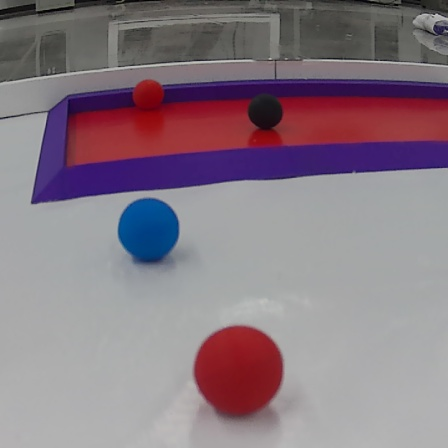black: (241, 90, 288, 135)
blue: (118, 197, 180, 265)
red: (191, 323, 286, 425), (134, 75, 167, 116)
red_aim: (28, 80, 448, 211)
